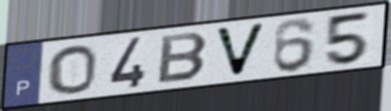4: (107, 35, 148, 91)
5: (322, 8, 378, 67)
6: (272, 16, 317, 75)
B: (155, 31, 212, 85)
O: (46, 43, 99, 95)
V: (212, 21, 269, 79)
